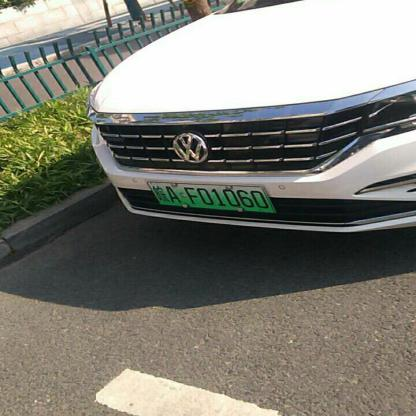lp: (149, 182, 275, 212)
